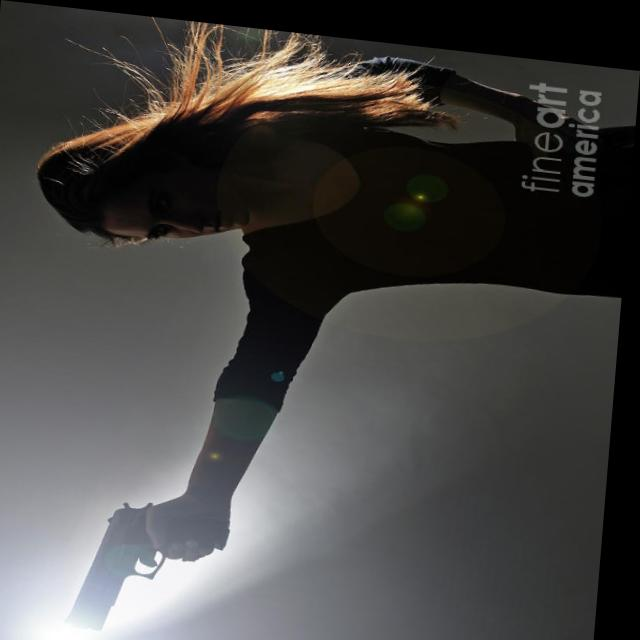handgun: (73, 493, 249, 640)
